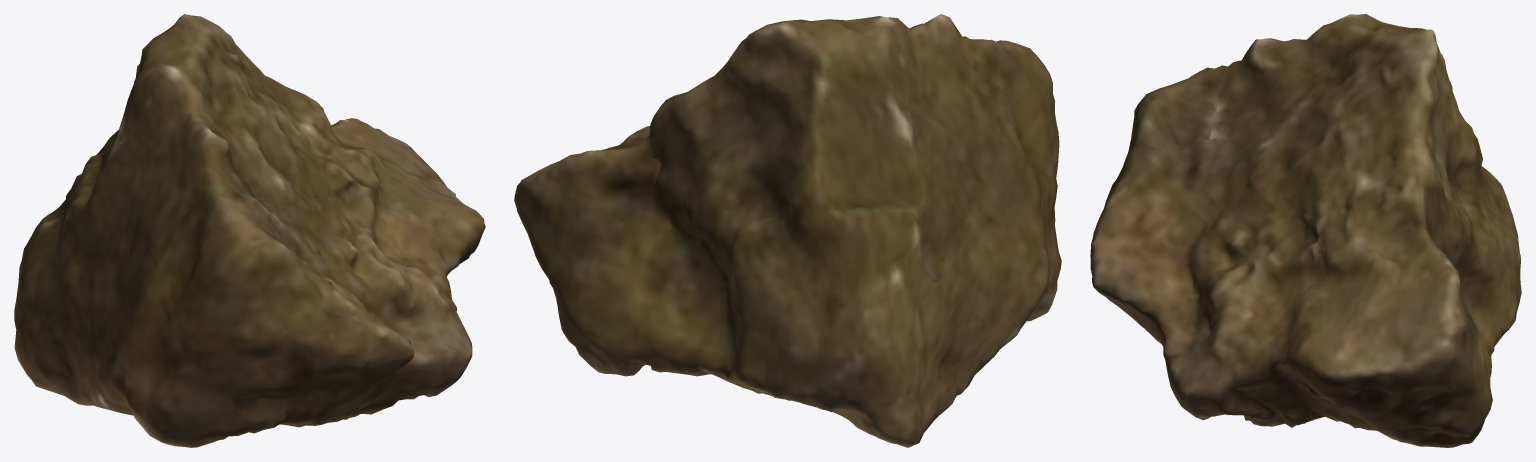
Rendered from rock_moss_set_01_b.gltf.
3 views of the same model, side by side, from view 1: azimuth 30°, elevation 25°; view 2: azimuth 150°, elevation 25°; view 3: azimuth 270°, elevation 25° (orthographic). The views are drawn at different scales.
Visible parts, largest first — view 1: rock_moss_set_01_rock04; view 2: rock_moss_set_01_rock04; view 3: rock_moss_set_01_rock04.
Part boxes in pixels (x1,y1,x2,y2): rock_moss_set_01_rock04: (14, 14, 485, 447); rock_moss_set_01_rock04: (514, 14, 1061, 447); rock_moss_set_01_rock04: (1090, 14, 1521, 447).
Size of the model in its own units: 2.13 by 1.77 by 1.96.
1 material, 1 textured.
